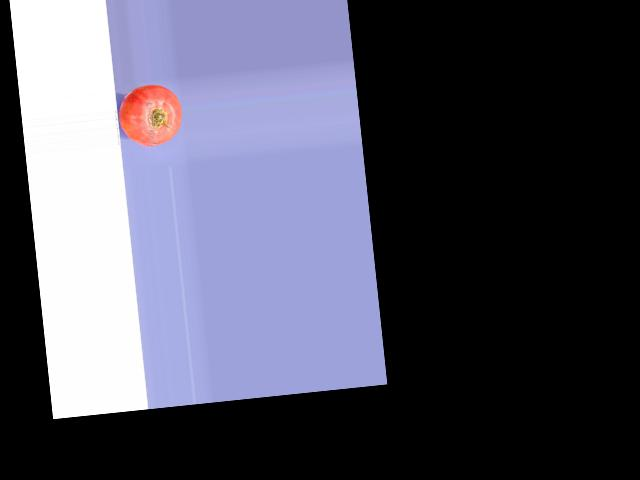tomato: (117, 81, 184, 149)
